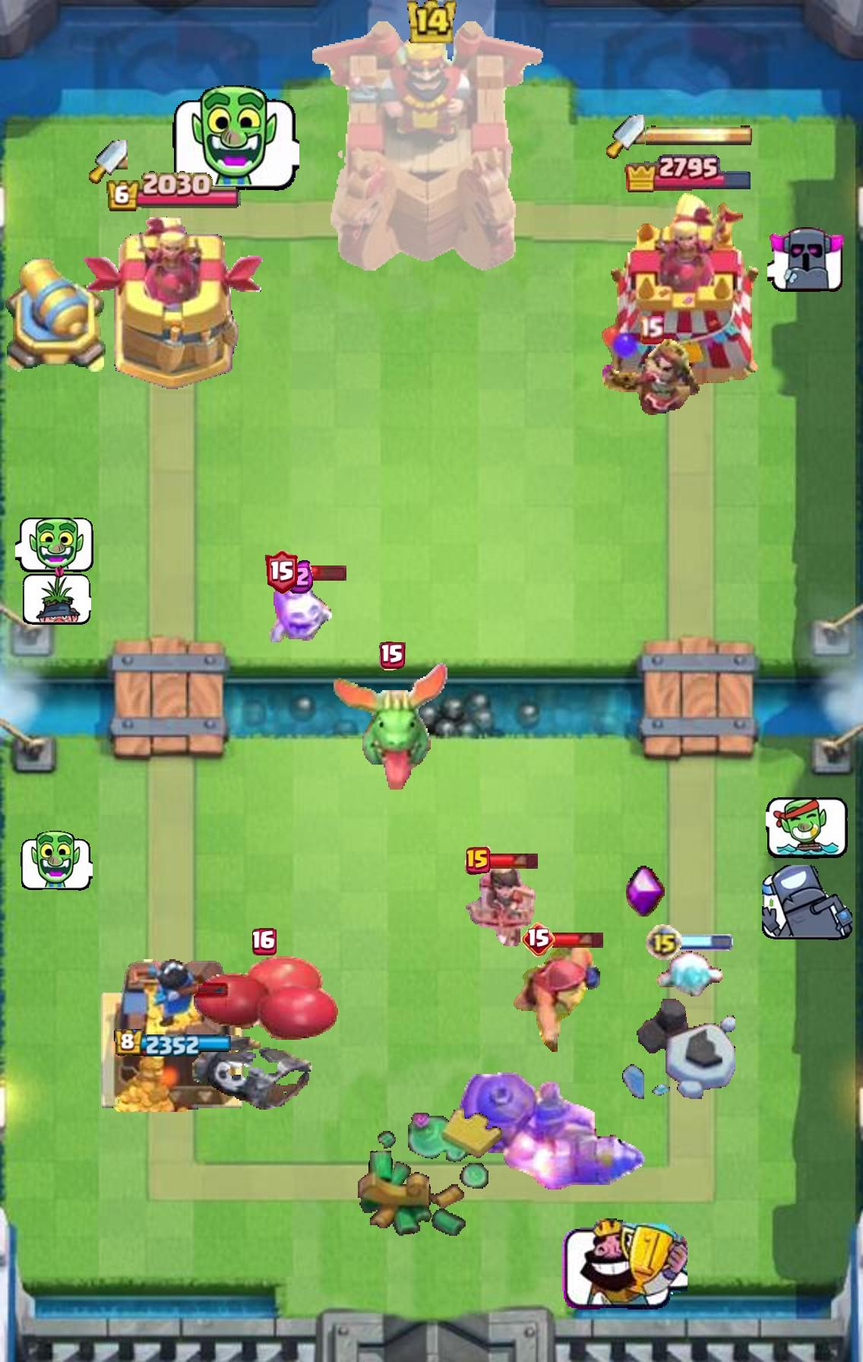bar: (552, 930, 605, 949), (294, 563, 347, 581), (487, 851, 540, 869)
bar-level: (265, 550, 297, 594), (521, 922, 556, 957), (638, 315, 664, 344), (379, 641, 405, 670), (465, 846, 491, 875), (252, 928, 277, 955)
